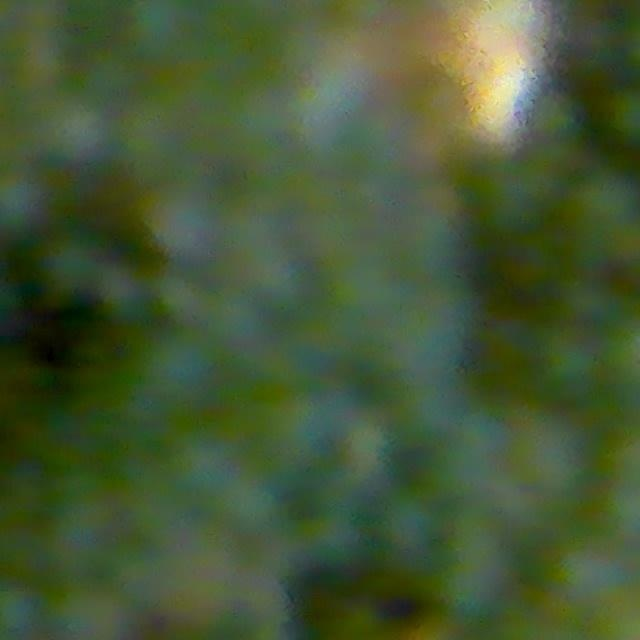SeaGrape: (510, 411, 594, 501), (137, 328, 222, 412), (144, 183, 227, 263), (37, 90, 117, 170), (566, 164, 639, 251), (551, 538, 632, 611), (538, 330, 604, 400), (123, 0, 196, 63), (377, 494, 442, 562), (39, 235, 105, 299), (600, 312, 639, 402), (0, 167, 47, 232), (600, 478, 640, 546), (0, 583, 44, 638), (601, 84, 639, 146)
